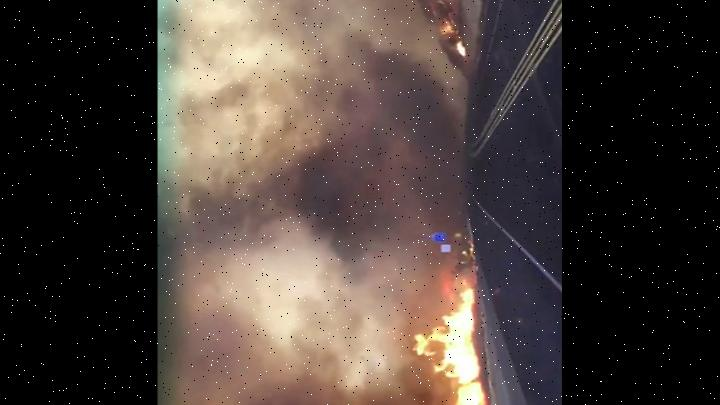fire: (286, 281, 509, 405), (274, 0, 476, 60)
